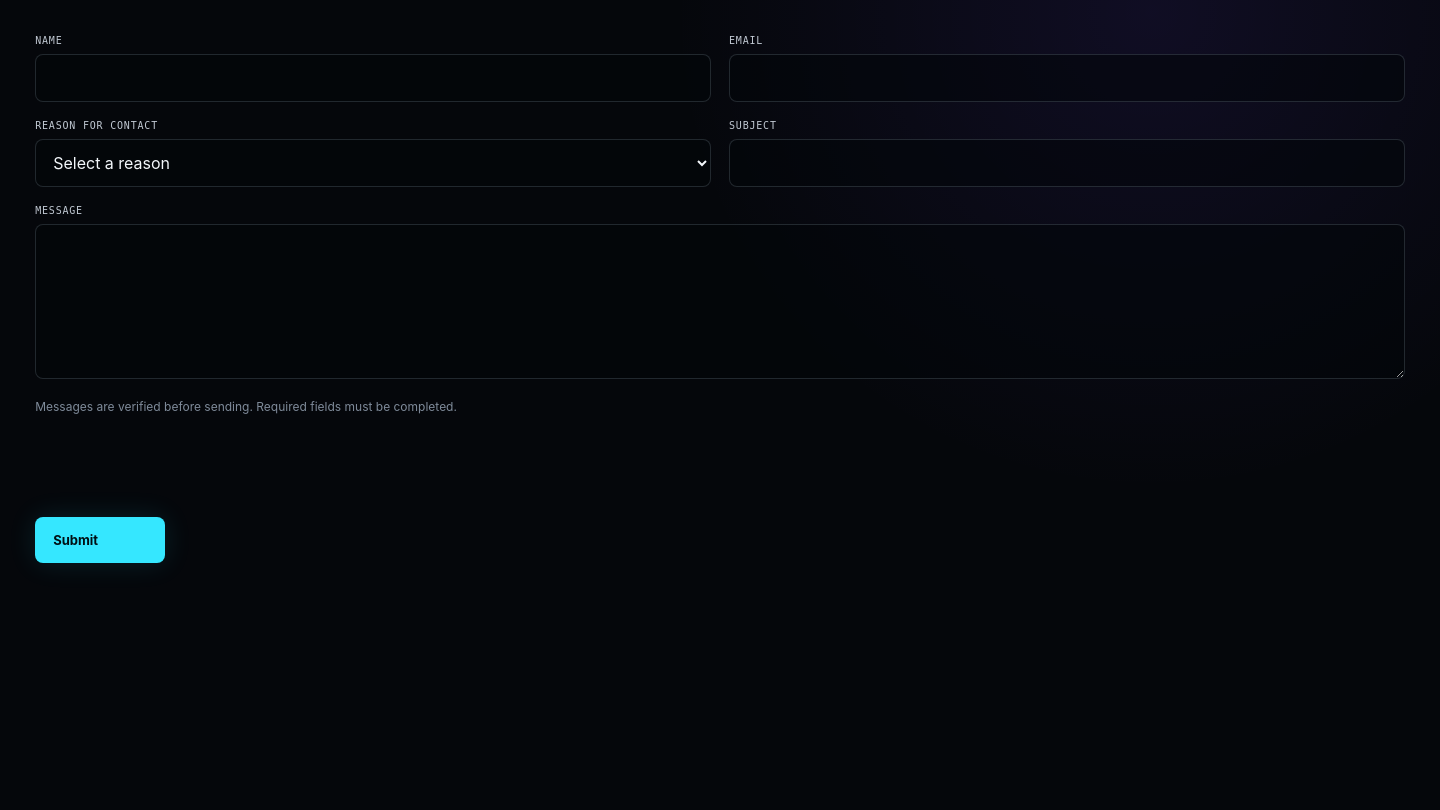
Test case: ContactForm › preserves entered values when the server rejects a request
Type "  Paul Tey  " into the field labelled "Name". click: (373, 78)
box: [35,54,711,102]
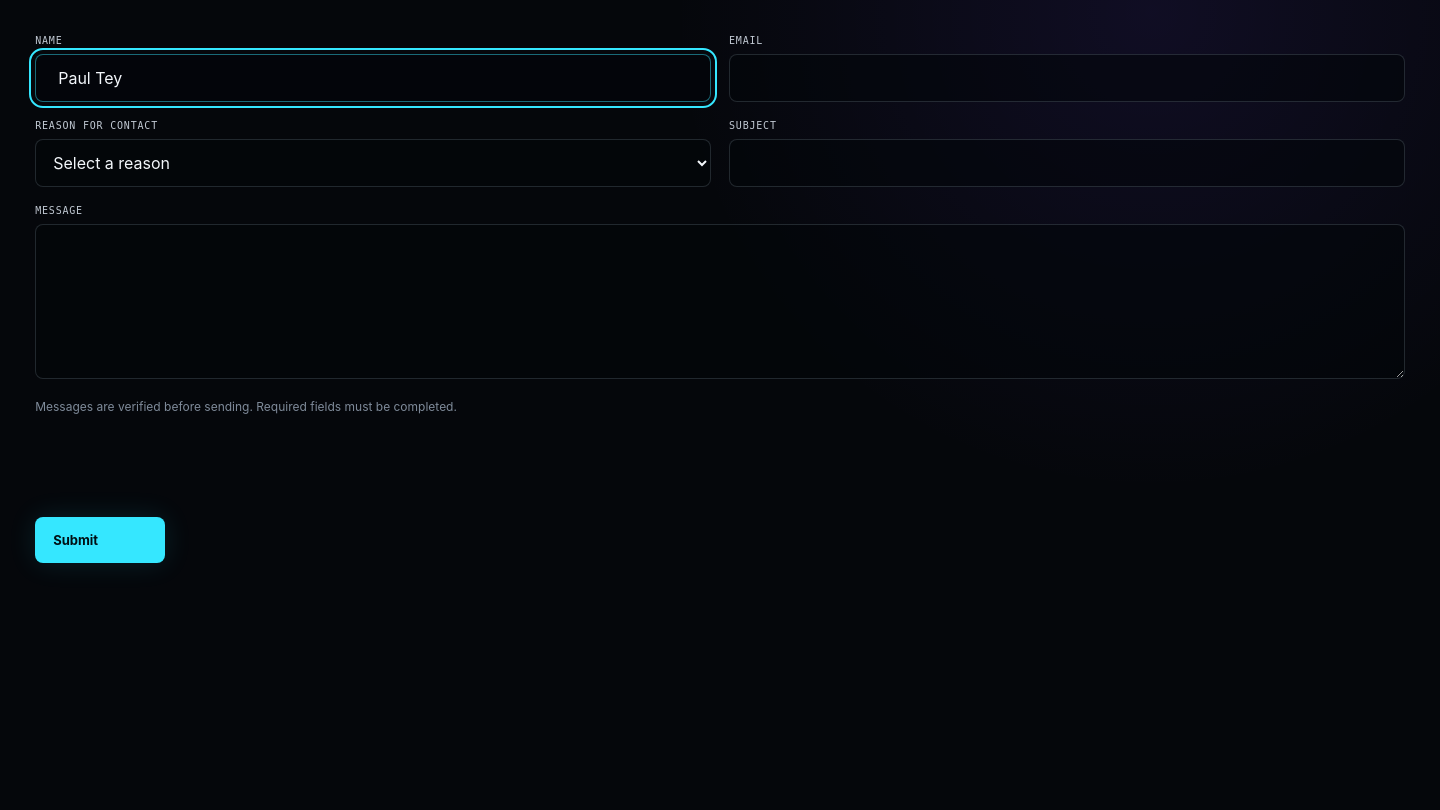
Type "paul@example.com" into the field labelled "Email". click: (1067, 78)
box: [729,54,1405,102]
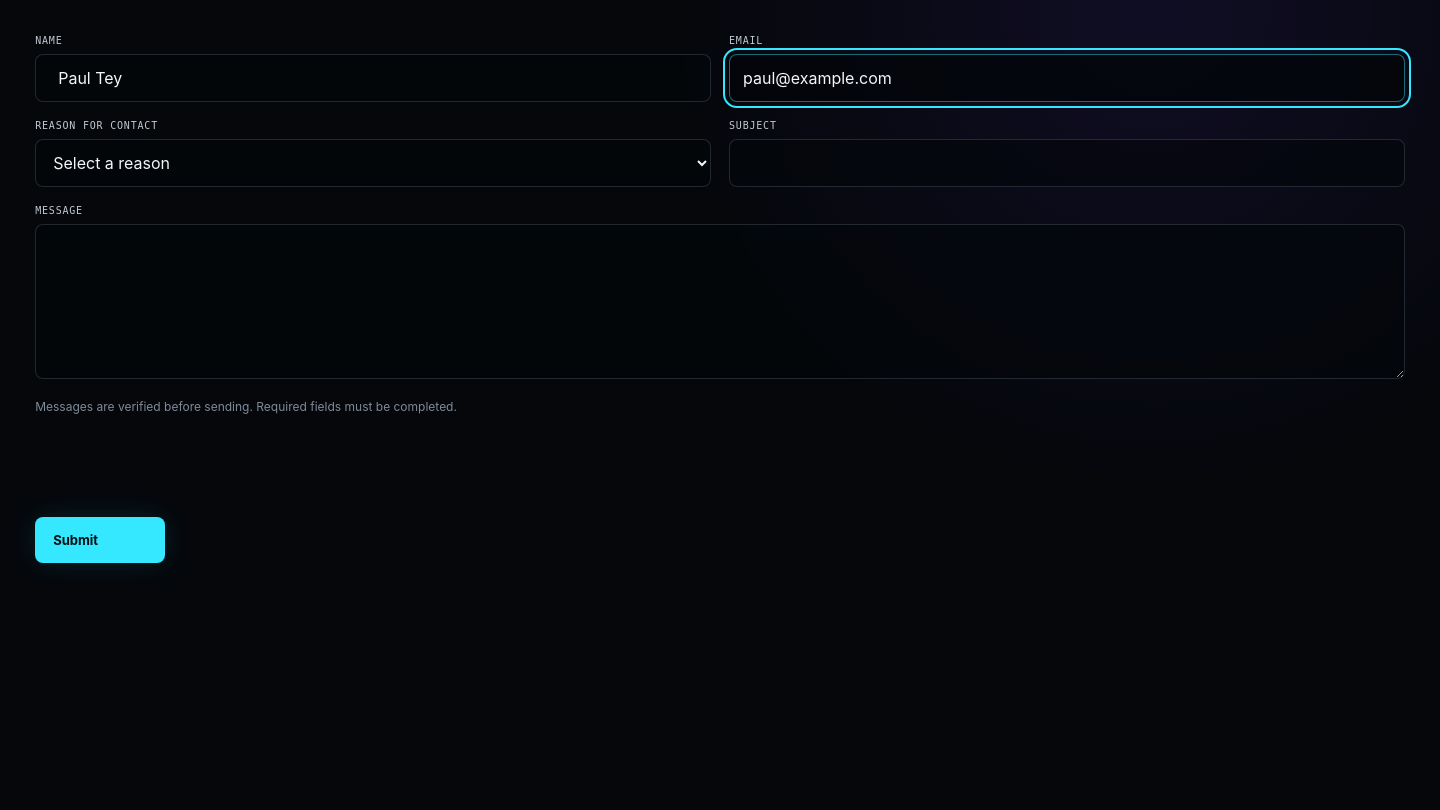
Select "Technical discussion" in the dropdown labelled "Reason for contact". click: (373, 163)
box: [35,139,711,187]
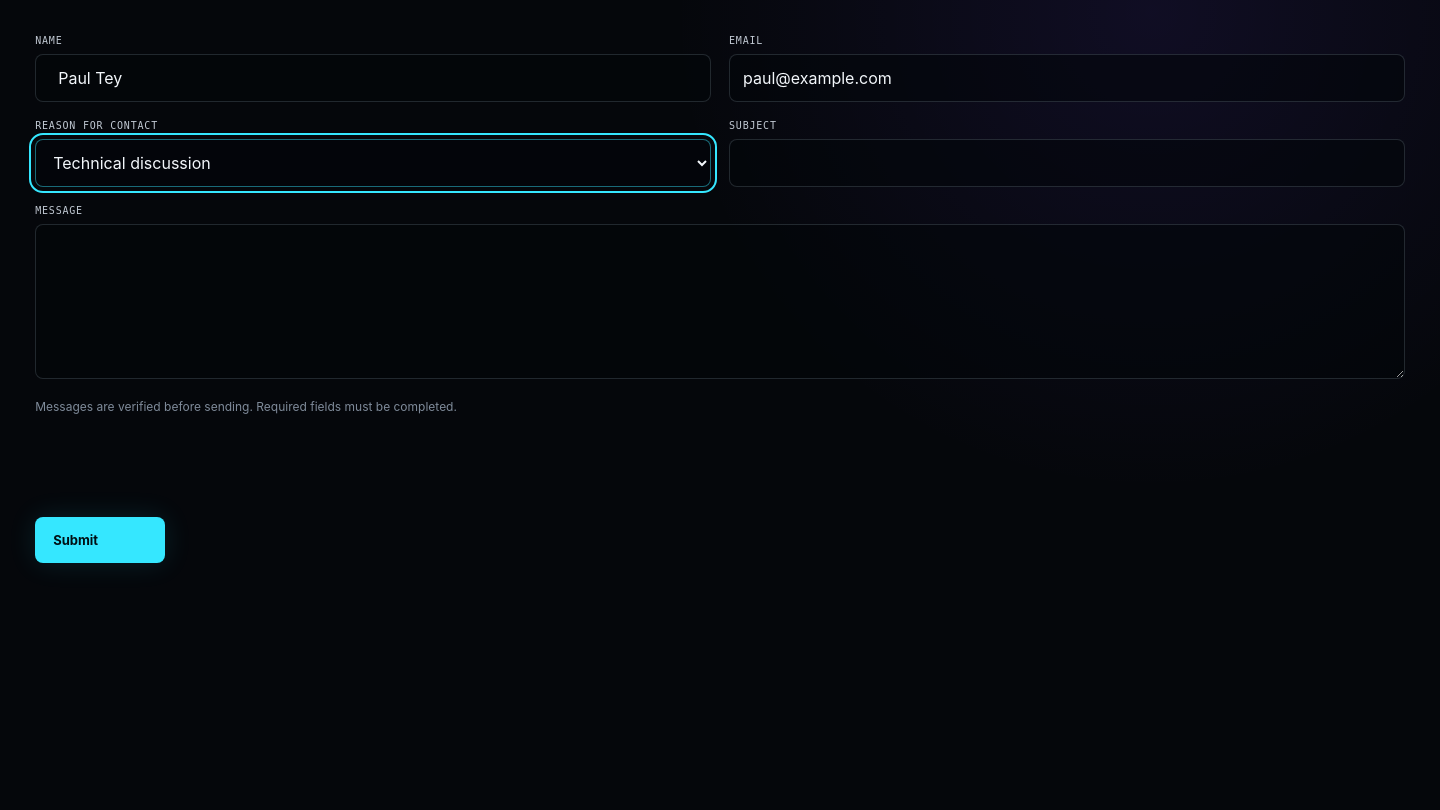
Type "  Portfolio question  " into the field labelled "Subject". click: (1067, 163)
box: [729,139,1405,187]
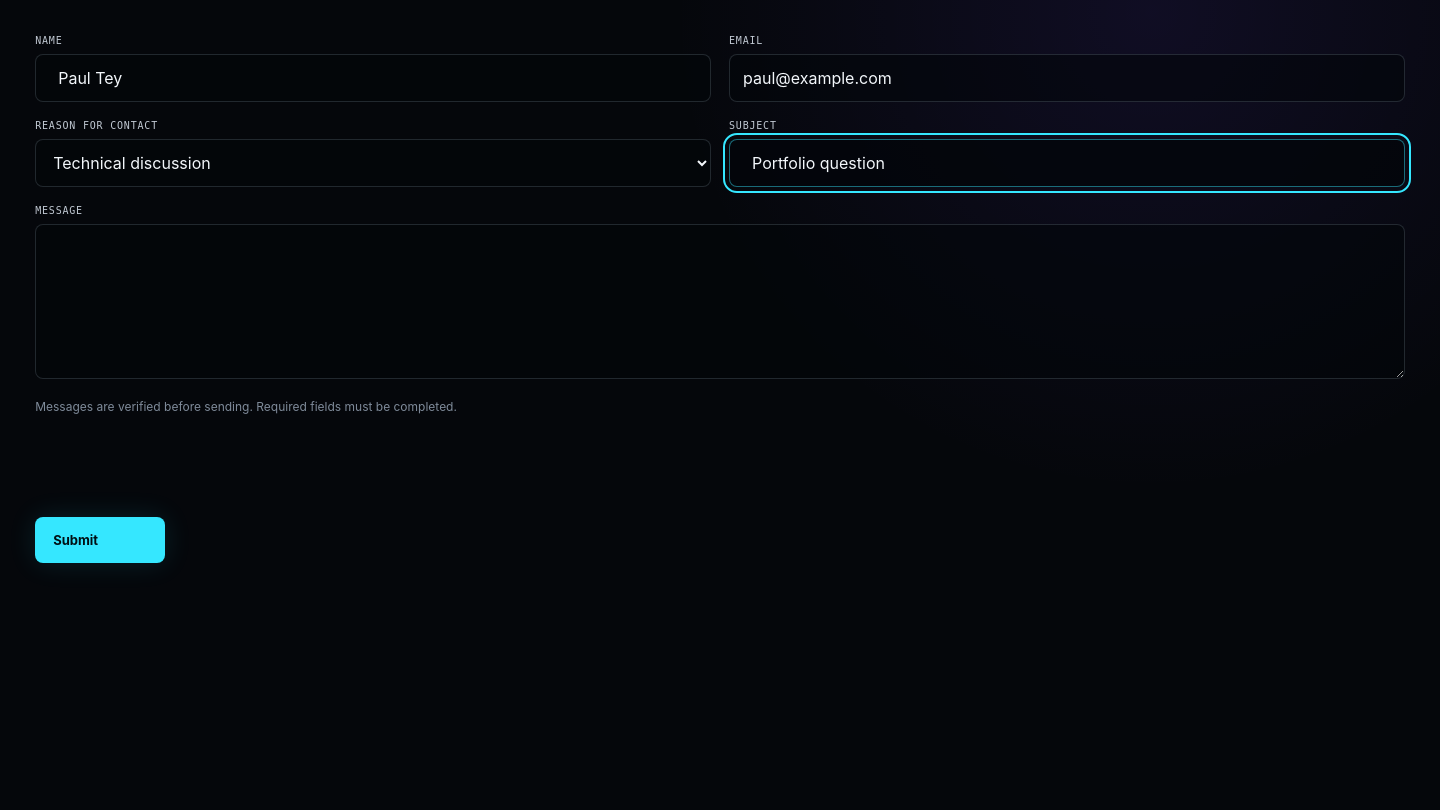
Type "  Test message  " into the text box labelled "Message". click: (720, 302)
box: [35,224,1405,379]
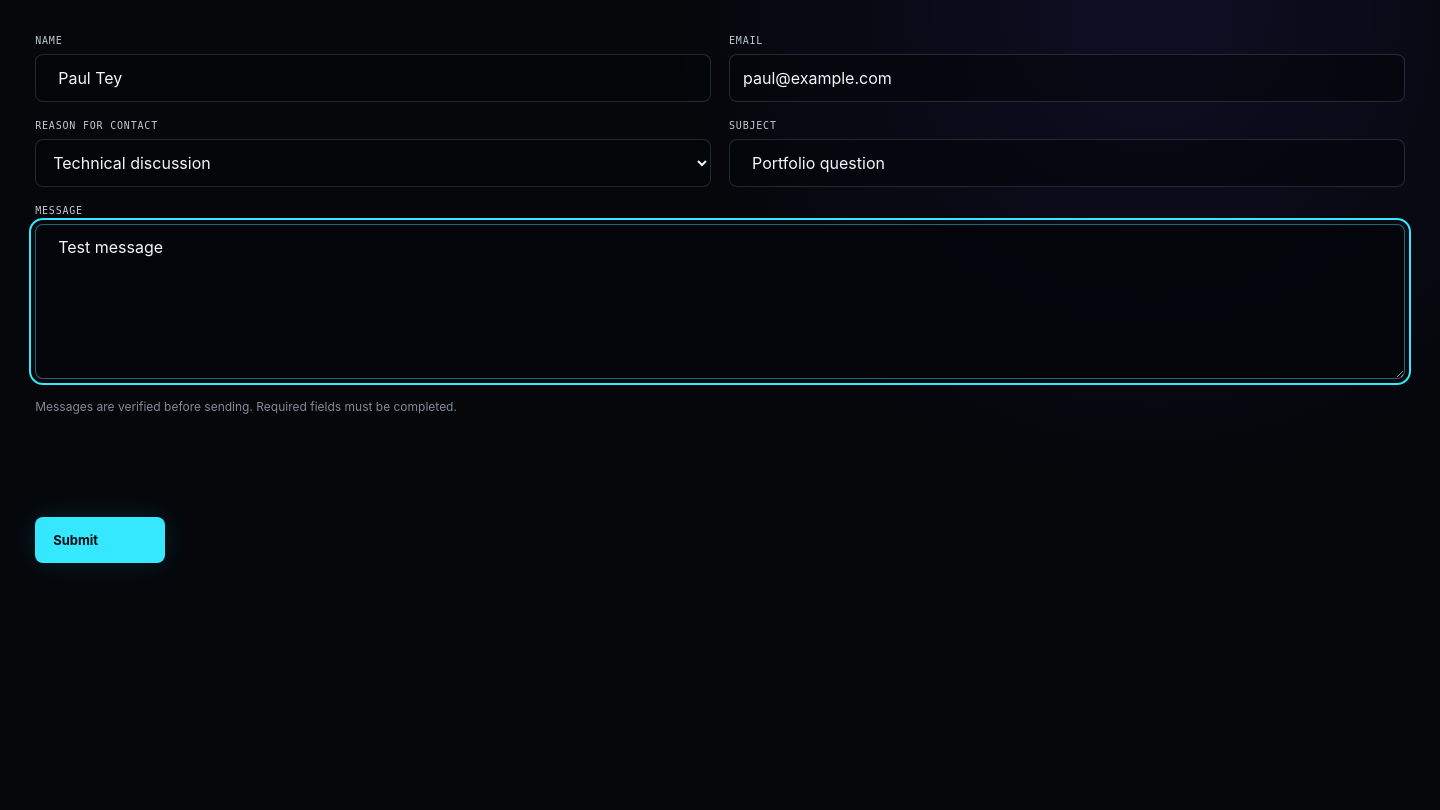
Click the button "Submit". click: click(100, 540)
box: [35,517,165,563]
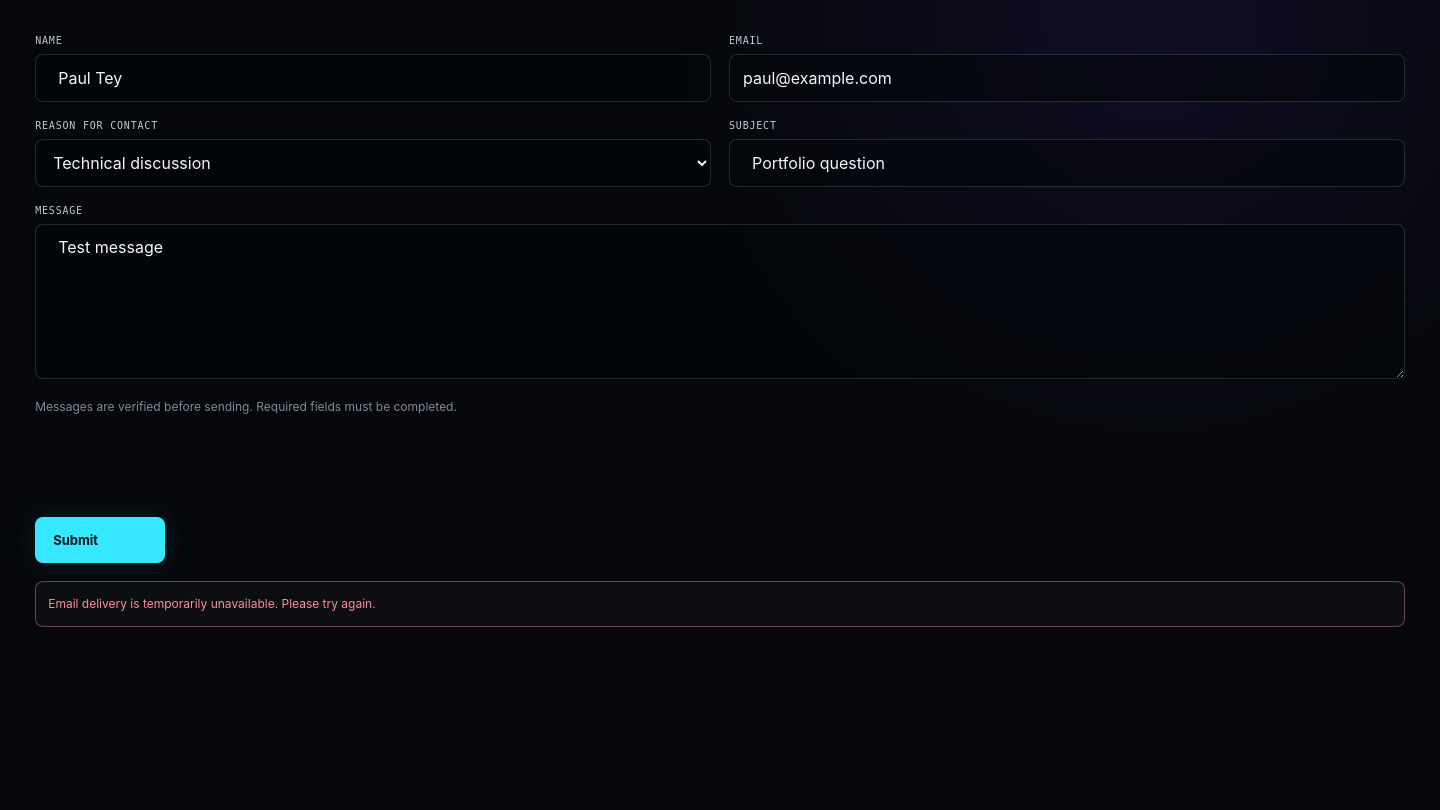
Result: the text "Email delivery is temporarily unavailable. Please try again." is shown at [35,581,1405,627]
